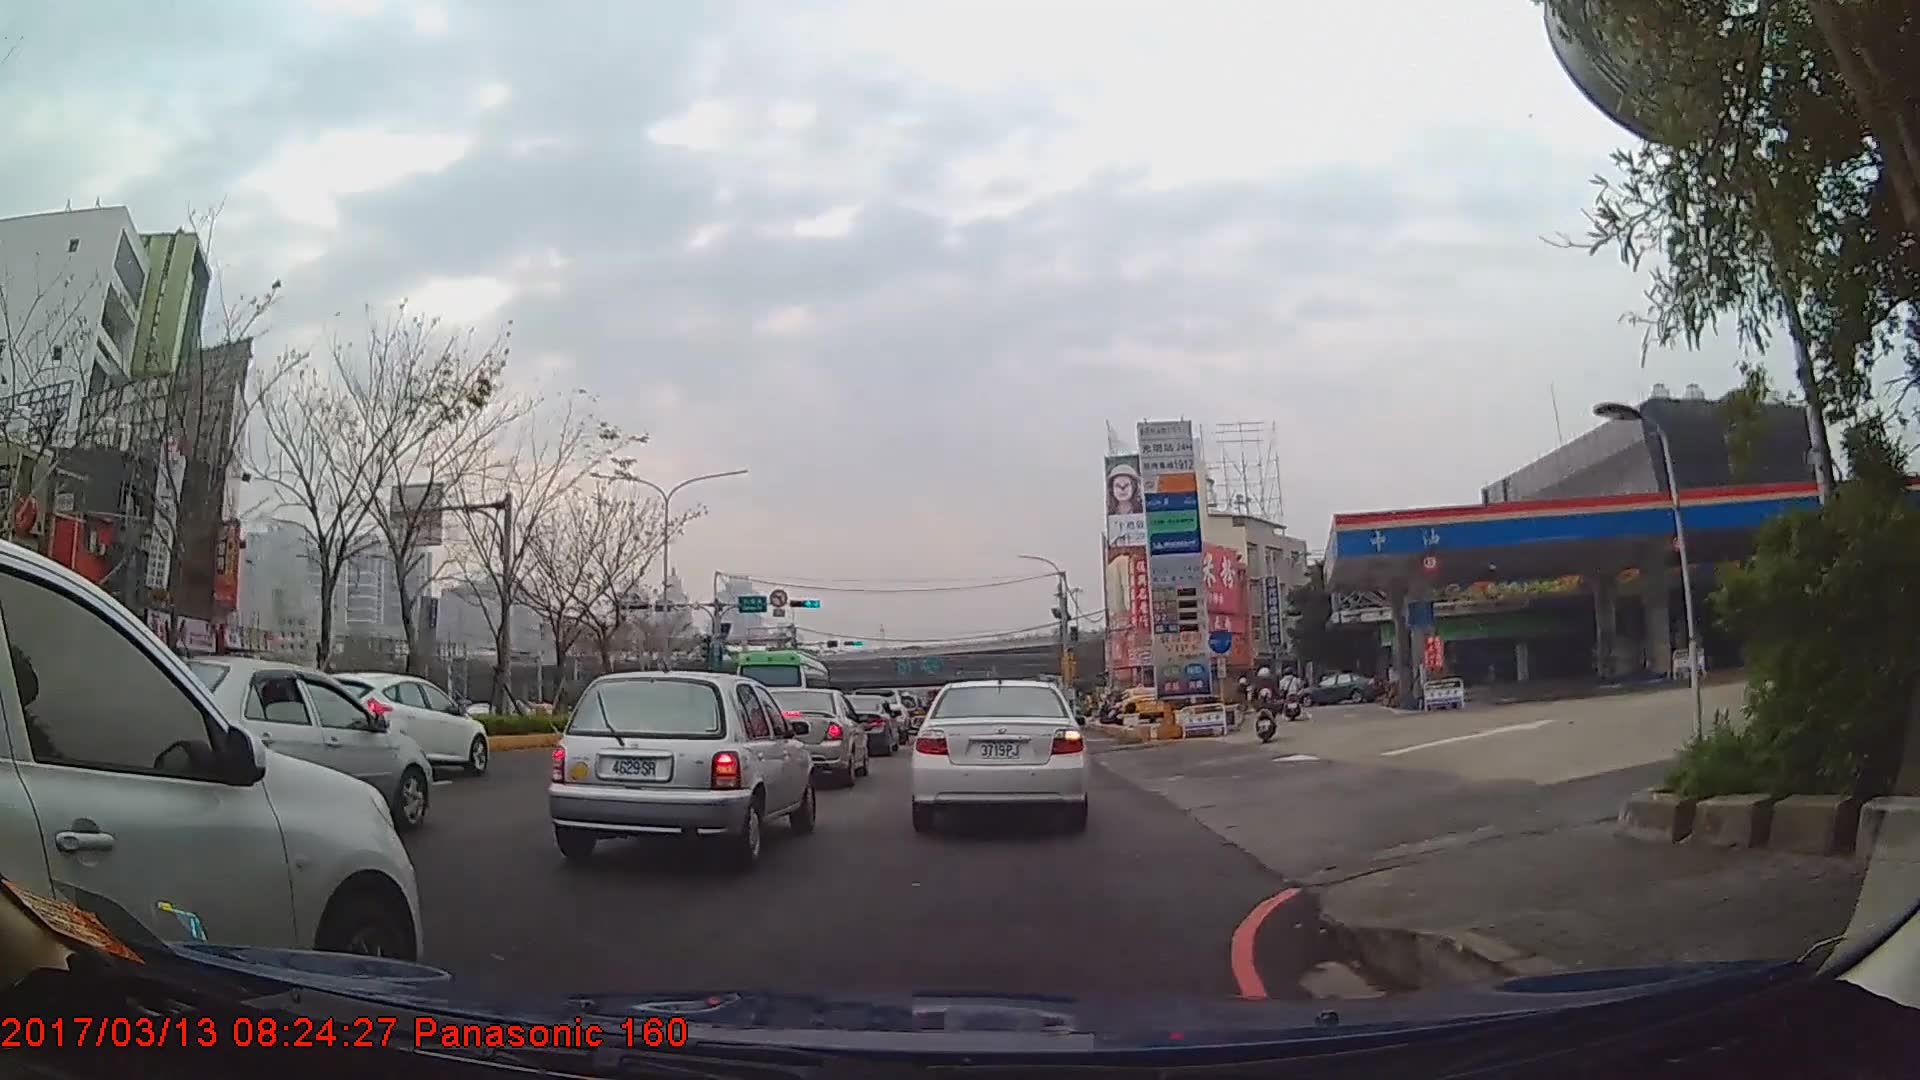rider: (1252, 669, 1281, 744), (1281, 668, 1305, 722)
vehicle: (0, 540, 426, 1019), (110, 657, 430, 832), (547, 669, 813, 869), (911, 675, 1088, 833), (292, 669, 488, 775), (743, 686, 868, 788), (731, 647, 830, 731), (823, 691, 900, 757), (1294, 670, 1381, 705), (1114, 686, 1167, 723)
